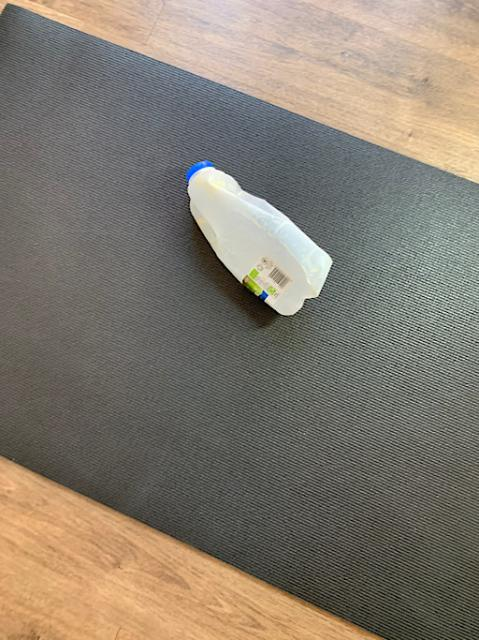plastic: (186, 160, 331, 313)
